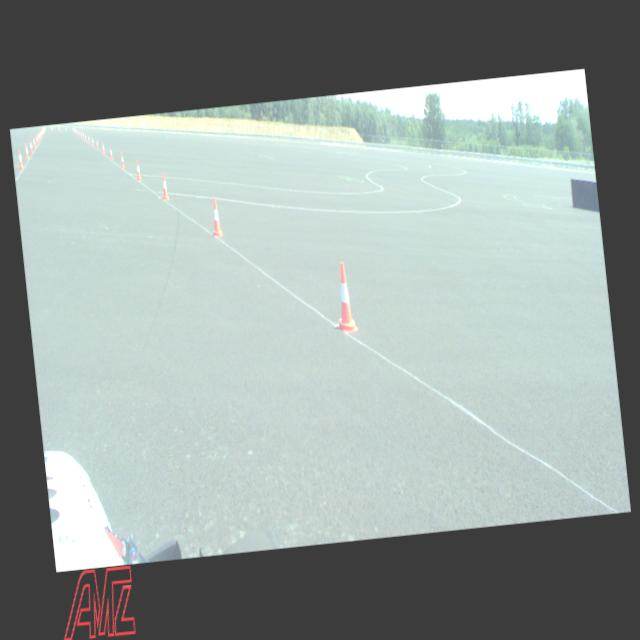orange_cone: (330, 261, 358, 333), (208, 197, 222, 237), (160, 172, 169, 200), (134, 160, 142, 180), (16, 150, 23, 168), (118, 152, 125, 168), (24, 144, 29, 159), (28, 139, 32, 152), (101, 142, 105, 154), (32, 136, 36, 148), (109, 146, 112, 160), (90, 137, 94, 146), (36, 133, 40, 142), (86, 134, 90, 142), (35, 134, 38, 144), (95, 140, 98, 148), (38, 132, 40, 140), (84, 133, 86, 140), (82, 132, 84, 139), (65, 125, 67, 132), (79, 130, 81, 136), (78, 129, 80, 135), (76, 128, 78, 134), (74, 127, 76, 133), (73, 126, 75, 132), (72, 126, 74, 132), (40, 130, 41, 138)
